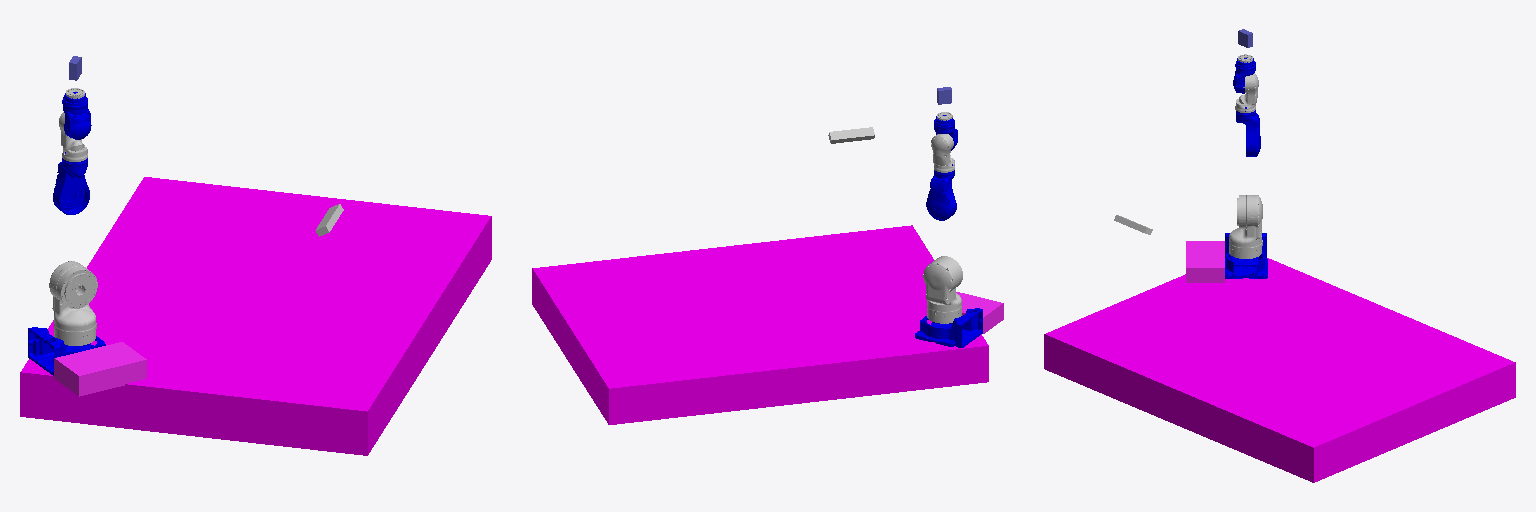
URDF robot description (motoman_vacumm):
<?xml version="1.0" ?>
<!-- =================================================================================== -->
<!-- |    This document was autogenerated by xacro from urdf/mantis.xacro              | -->
<!-- |    EDITING THIS FILE BY HAND IS NOT RECOMMENDED                                 | -->
<!-- =================================================================================== -->
<robot name="motoman_vacumm" xmlns:xacro="http://ros.org/wiki/xacro">
  <!-- instantiating arm and gripper -->
  <link name="base_link">
    <visual>
      <geometry>
        <mesh filename="package://motoman_config/meshes/sia20d/visual/MOTOMAN_BASE.stl"/>
      </geometry>
      <material name="blue">
        <color rgba="0 0 1 1"/>
      </material>
    </visual>
    <collision>
      <geometry>
        <mesh filename="package://motoman_config/meshes/sia20d/collision/MOTOMAN_BASE.stl"/>
      </geometry>
      <material name="yellow">
        <color rgba="0 1 1 1"/>
      </material>
    </collision>
  </link>
  <link name="link_s">
    <visual>
      <origin rpy="0 0 3.1416" xyz="0 0 0"/>
      <geometry>
        <mesh filename="package://motoman_config/meshes/sia20d/visual/MOTOMAN_AXIS_S.stl"/>
      </geometry>
      <material name="silver">
        <color rgba="0.8 0.8 0.8 1"/>
      </material>
    </visual>
    <collision>
      <origin rpy="0 0 3.1416" xyz="0 0 0"/>
      <geometry>
        <mesh filename="package://motoman_config/meshes/sia20d/collision/MOTOMAN_AXIS_S.stl"/>
      </geometry>
      <material name="yellow"/>
    </collision>
  </link>
  <link name="link_l">
    <visual>
      <origin rpy="1.57 3.1416 3.1416" xyz="0 0 0"/>
      <geometry>
        <mesh filename="package://motoman_config/meshes/sia20d/visual/MOTOMAN_AXIS_L.stl"/>
      </geometry>
      <material name="blue"/>
    </visual>
    <collision>
      <origin rpy="1.57 3.1416 3.1416" xyz="0 0 0"/>
      <geometry>
        <mesh filename="package://motoman_config/meshes/sia20d/collision/MOTOMAN_AXIS_L.stl"/>
      </geometry>
      <material name="yellow"/>
    </collision>
  </link>
  <link name="link_e">
    <visual>
      <origin rpy="0 0 0" xyz="0 0 0"/>
      <geometry>
        <mesh filename="package://motoman_config/meshes/sia20d/visual/MOTOMAN_AXIS_E.stl"/>
      </geometry>
      <material name="silver"/>
    </visual>
    <collision>
      <origin rpy="0 0 0" xyz="0 0 0"/>
      <geometry>
        <mesh filename="package://motoman_config/meshes/sia20d/collision/MOTOMAN_AXIS_E.stl"/>
      </geometry>
      <material name="yellow"/>
    </collision>
  </link>
  <link name="link_u">
    <visual>
      <origin rpy="1.57 -3.1415 3.1416" xyz="0 0 0"/>
      <geometry>
        <mesh filename="package://motoman_config/meshes/sia20d/visual/MOTOMAN_AXIS_U.stl"/>
      </geometry>
      <material name="blue"/>
    </visual>
    <collision>
      <origin rpy="1.57 -3.1415 3.1416" xyz="0 0 0"/>
      <geometry>
        <mesh filename="package://motoman_config/meshes/sia20d/collision/MOTOMAN_AXIS_U.stl"/>
      </geometry>
      <material name="yellow"/>
    </collision>
  </link>
  <link name="link_r">
    <visual>
      <origin rpy="0 0 0" xyz="0 0 0"/>
      <geometry>
        <mesh filename="package://motoman_config/meshes/sia20d/visual/MOTOMAN_AXIS_R.stl"/>
      </geometry>
      <material name="silver"/>
    </visual>
    <collision>
      <origin rpy="0 0 0" xyz="0 0 0"/>
      <geometry>
        <mesh filename="package://motoman_config/meshes/sia20d/collision/MOTOMAN_AXIS_R.stl"/>
      </geometry>
      <material name="yellow"/>
    </collision>
  </link>
  <link name="link_b">
    <visual>
      <origin rpy="-1.57 0 0" xyz="0 0 0"/>
      <geometry>
        <mesh filename="package://motoman_config/meshes/sia20d/visual/MOTOMAN_AXIS_B.stl"/>
      </geometry>
      <material name="blue"/>
    </visual>
    <collision>
      <origin rpy="-1.57 0 0" xyz="0 0 0"/>
      <geometry>
        <mesh filename="package://motoman_config/meshes/sia20d/collision/MOTOMAN_AXIS_B.stl"/>
      </geometry>
      <material name="yellow"/>
    </collision>
  </link>
  <link name="link_t">
    <visual>
      <geometry>
        <mesh filename="package://motoman_config/meshes/sia20d/visual/MOTOMAN_AXIS_T.stl"/>
      </geometry>
      <material name="silver"/>
    </visual>
    <collision>
      <geometry>
        <mesh filename="package://motoman_config/meshes/sia20d/collision/MOTOMAN_AXIS_T.stl"/>
      </geometry>
      <material name="yellow"/>
    </collision>
  </link>
  <joint name="joint_s" type="revolute">
    <parent link="base_link"/>
    <child link="link_s"/>
    <origin rpy="0 0 0" xyz="0 0 0.41"/>
    <axis xyz="0 0 1"/>
    <limit effort="100" lower="-3.1416" upper="3.1416" velocity="2.26"/>
  </joint>
  <joint name="joint_l" type="revolute">
    <parent link="link_s"/>
    <child link="link_l"/>
    <origin rpy="0 0 0" xyz="0 0 0"/>
    <axis xyz="0 1 0"/>
    <limit effort="100" lower="-1.91" upper="1.91" velocity="2.26"/>
  </joint>
  <joint name="joint_e" type="revolute">
    <parent link="link_l"/>
    <child link="link_e"/>
    <origin rpy="0 0 0" xyz="0 0 0.49"/>
    <axis xyz="0 0 1"/>
    <limit effort="100" lower="-2.96" upper="2.96" velocity="2.96"/>
  </joint>
  <joint name="joint_u" type="revolute">
    <parent link="link_e"/>
    <child link="link_u"/>
    <origin rpy="0 0 0" xyz="0 0 0"/>
    <axis xyz="0 -1 0"/>
    <limit effort="100" lower="-2.26" upper="2.26" velocity="2.96"/>
  </joint>
  <joint name="joint_r" type="revolute">
    <parent link="link_u"/>
    <child link="link_r"/>
    <origin rpy="0 0 0" xyz="0 0 0.420"/>
    <axis xyz="0 0 -1"/>
    <limit effort="100" lower="-3.1416" upper="3.1416" velocity="3.48"/>
  </joint>
  <joint name="joint_b" type="revolute">
    <parent link="link_r"/>
    <child link="link_b"/>
    <origin rpy="0 0 0" xyz="0 0 0"/>
    <axis xyz="0 -1 0"/>
    <limit effort="100" lower="-1.91" upper="1.91" velocity="3.48"/>
  </joint>
  <joint name="joint_t" type="revolute">
    <parent link="link_b"/>
    <child link="link_t"/>
    <origin rpy="0 0 0" xyz="0 0 0.18"/>
    <axis xyz="0 0 -1"/>
    <limit effort="100" lower="-3.1416" upper="3.1416" velocity="6.97"/>
  </joint>
  <link name="palm">
    <visual>
      <origin rpy="0 0 0" xyz="0 0.036 -0.0473"/>
      <geometry>
        <box size="0.044 0.088 0.0946"/>
      </geometry>
      <material name="another_blue1">
        <color rgba="0.40 0.40 0.80 1"/>
      </material>
    </visual>
    <collision>
      <origin rpy="0 0 0" xyz="0 0.036 -0.0473"/>
      <geometry>
        <box size="0.044 0.088 0.0946"/>
      </geometry>
      <material name="another_blue2">
        <color rgba="0.38 0.54 0.83 1"/>
      </material>
    </collision>
  </link>
  <!-- property list -->
  <!-- link sub-blocks -->
  <!-- arm-gripper coupling links -->
  <link name="coupler">
    <visual>
      <geometry>
        <mesh filename="package://longhorn/meshes/coupler/visual/COUPLER.stl"/>
      </geometry>
      <material name="orange">
        <color rgba="1 0.5 0 1"/>
      </material>
    </visual>
    <collision>
      <geometry>
        <mesh filename="package://longhorn/meshes/coupler/collision/COUPLER.stl"/>
      </geometry>
      <material name="yellow">
        <color rgba="0 1 1 1"/>
      </material>
    </collision>
  </link>
  <!-- end of arm-gripper coupling links -->
  <!-- arm-gripper coupling joints -->
  <joint name="tool-coupler" type="fixed">
    <parent link="link_t"/>
    <child link="coupler"/>
    <origin rpy="1.570 0 -0.785" xyz="0 0 0"/>
  </joint>
  <joint name="coupler-hand" type="fixed">
    <parent link="coupler"/>
    <child link="palm"/>
    <origin rpy="-1.570 0 0" xyz="0 0.182 0.036"/>
  </joint>
  <!-- end of arm-gripper coupling joints -->
  <!-- environment objects -->
  <link name="table">
    <visual>
      <geometry>
        <box size="1.83 2.44 0.25"/>
      </geometry>
      <material name="">
        <color rgba="1 0 1 1"/>
      </material>
    </visual>
    <collision>
      <geometry>
        <box size="1.83 2.44 0.25"/>
      </geometry>
      <material name="">
        <color rgba="1 0 1 1"/>
      </material>
    </collision>
  </link>
  <link name="table_keepout_1">
    <collision>
      <geometry>
        <box size="2.08 0.25 2"/>
      </geometry>
      <material name="">
        <color rgba="1 0.2 1 0.1"/>
      </material>
    </collision>
  </link>
  <link name="table_keepout_2">
    <collision>
      <geometry>
        <box size="0.25 2.69 2"/>
      </geometry>
      <material name="">
        <color rgba="1 0.2 1 0.1"/>
      </material>
    </collision>
  </link>
  <link name="power_supply">
    <visual>
      <geometry>
        <box size="0.400 0.250 0.115"/>
      </geometry>
      <material name="">
        <color rgba="1 0.2 1 0.1"/>
      </material>
    </visual>
    <collision>
      <geometry>
        <box size="0.400 0.250 0.115"/>
      </geometry>
      <material name="">
        <color rgba="1 0.2 1 0.1"/>
      </material>
    </collision>
  </link>
  <link name="kinect_keepout">
    <collision>
      <geometry>
        <box size="0.25 2.69 2"/>
      </geometry>
      <material name="">
        <color rgba="1 0.2 1 0.1"/>
      </material>
    </collision>
  </link>
  <link name="kinect">
    <collision>
      <geometry>
        <box size="0.36 0.28 0.22"/>
      </geometry>
      <material name="">
        <color rgba="1 0.8 1 0.1"/>
      </material>
    </collision>
  </link>
  <!-- end of environment objects -->
  <!-- environment joints -->
  <joint name="base-table" type="fixed">
    <parent link="base_link"/>
    <child link="table"/>
    <origin rpy="0 0 -0.785" xyz="1.19 0.22 -0.125"/>
  </joint>
  <joint name="base-kinect" type="fixed">
    <parent link="base_link"/>
    <child link="kinect"/>
    <origin rpy="0 0.5235 2.356" xyz="1.08 -0.72 0.82"/>
  </joint>
  <joint name="table-keepout_1" type="fixed">
    <parent link="table"/>
    <child link="table_keepout_1"/>
    <origin rpy="0 0 0" xyz="0 -1.34 1"/>
  </joint>
  <joint name="table-keepout_2" type="fixed">
    <parent link="table"/>
    <child link="table_keepout_2"/>
    <origin rpy="0 0 0" xyz="-1.025 0 1"/>
  </joint>
  <joint name="base-power_supply" type="fixed">
    <parent link="base_link"/>
    <child link="power_supply"/>
    <origin rpy="0 0 0" xyz="0 -0.260 0.050"/>
  </joint>
  <joint name="table-kinect" type="fixed">
    <parent link="table"/>
    <child link="kinect_keepout"/>
    <origin rpy="0 0 0" xyz=".5 0 1"/>
  </joint>
  <!-- end of environment joints -->
  <!-- sensor links -->
  <link name="kinect_frame">
    <visual>
      <origin rpy="0 0 0" xyz="0 0 0"/>
      <geometry>
        <box size="0.064 0.28 0.04"/>
      </geometry>
      <material name="silver"/>
    </visual>
    <collision>
      <origin rpy="0 0 0" xyz="0 0 0"/>
      <geometry>
        <box size="0.064 0.28 0.04"/>
      </geometry>
    </collision>
  </link>
  <link name="kinect_ir_link">
    <visual>
      <origin rpy="0 0 0" xyz="0 0 0"/>
      <geometry>
        <sphere radius="0.0005"/>
      </geometry>
    </visual>
  </link>
  <link name="kinect_rgb_link">
    <visual>
      <origin rpy="0 0 0" xyz="0 0 0"/>
      <geometry>
        <sphere radius="0.0005"/>
      </geometry>
    </visual>
  </link>
  <link name="kinect_ir_optical_frame"/>
  <link name="kinect_rgb_optical_frame"/>
  <!-- end of sensor links -->
  <!-- sensor joints -->
  <joint name="kinect_frame_joint" type="fixed">
    <parent link="kinect"/>
    <child link="kinect_frame"/>
    <origin rpy="0 0 0" xyz="0 0 0"/>
  </joint>
  <joint name="kinect_ir_joint" type="fixed">
    <parent link="kinect_frame"/>
    <child link="kinect_ir_link"/>
    <origin rpy="0 0 0" xyz="0 0 0"/>
  </joint>
  <joint name="kinect_ir_optical_frame_joint" type="fixed">
    <parent link="kinect_ir_link"/>
    <child link="kinect_ir_optical_frame"/>
    <origin rpy="-1.57 0 -1.57" xyz="0 0 0"/>
  </joint>
  <joint name="kinect_rgb_joint" type="fixed">
    <parent link="kinect_ir_link"/>
    <child link="kinect_rgb_link"/>
    <origin rpy="0 0 0" xyz="0 -0.03 0"/>
  </joint>
  <joint name="kinect_rgb_optical_frame_joint" type="fixed">
    <parent link="kinect_rgb_link"/>
    <child link="kinect_rgb_optical_frame"/>
    <origin rpy="-1.57 0 -1.57" xyz="0 0 0"/>
  </joint>
  <!-- end of sensor joints -->
</robot>

--- What the picture shows (computed from the rendered views, not written in the file) ---
Views: 3 orthographic renders of the robot side by side, from view 1: azimuth 30°, elevation 25°; view 2: azimuth 150°, elevation 25°; view 3: azimuth 270°, elevation 25°.
Model motoman_vacumm with 21 links and 20 joints (7 revolute, 13 fixed), rooted at base_link, posed all joints at 0.
Links seen in each view (by area): view 1: table, power_supply, link_s, link_u, base_link, link_b, link_r; view 2: table, link_s, base_link, link_u, power_supply, link_r, kinect_frame; view 3: table, link_s, power_supply, base_link, link_u, link_r.
Boxes of the visible links, bbox=[...] form: table: bbox=[20, 177, 491, 455]; power_supply: bbox=[54, 342, 146, 396]; link_s: bbox=[49, 261, 97, 345]; link_u: bbox=[53, 152, 89, 214]; base_link: bbox=[28, 327, 105, 375]; link_b: bbox=[62, 92, 91, 139]; link_r: bbox=[59, 112, 87, 161]; table: bbox=[532, 225, 988, 424]; link_s: bbox=[923, 256, 962, 323]; base_link: bbox=[915, 308, 982, 347]; link_u: bbox=[926, 164, 956, 220]; power_supply: bbox=[956, 292, 1003, 333]; link_r: bbox=[931, 134, 954, 172]; kinect_frame: bbox=[828, 127, 874, 143]; table: bbox=[1044, 258, 1515, 482]; link_s: bbox=[1229, 195, 1262, 258]; power_supply: bbox=[1186, 241, 1224, 282]; base_link: bbox=[1225, 233, 1267, 278]; link_u: bbox=[1236, 107, 1260, 156]; link_r: bbox=[1235, 73, 1258, 112].
Size in the robot's own frame: 3.02 by 3.02 by 1.93 metres.
Meshes: 9 distinct files referenced, 6 mesh visuals loaded (6 binary STL); not drawn: 3 (reference not matched to a file when rendering).